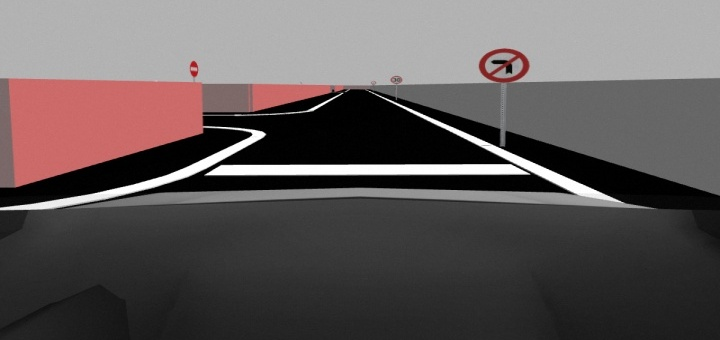sola_donulmez: (479, 48, 532, 86)
